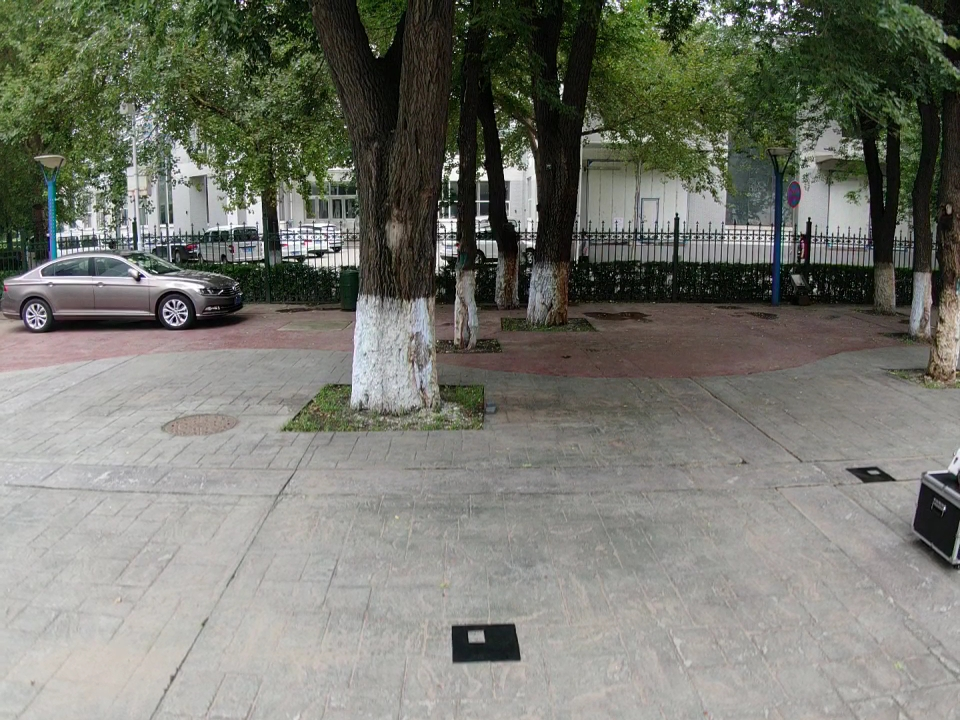qrcode: (452, 624, 521, 662), (846, 467, 897, 483)
